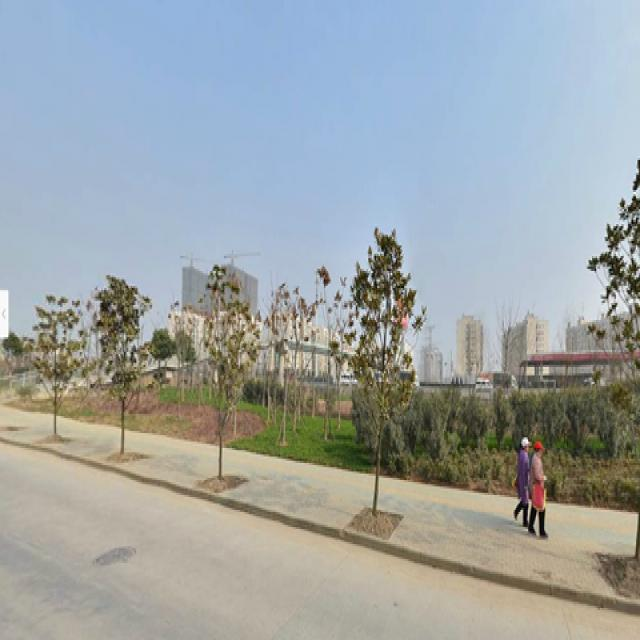magn: (360, 258, 408, 508), (96, 280, 140, 440), (209, 294, 244, 473), (31, 294, 72, 416)
